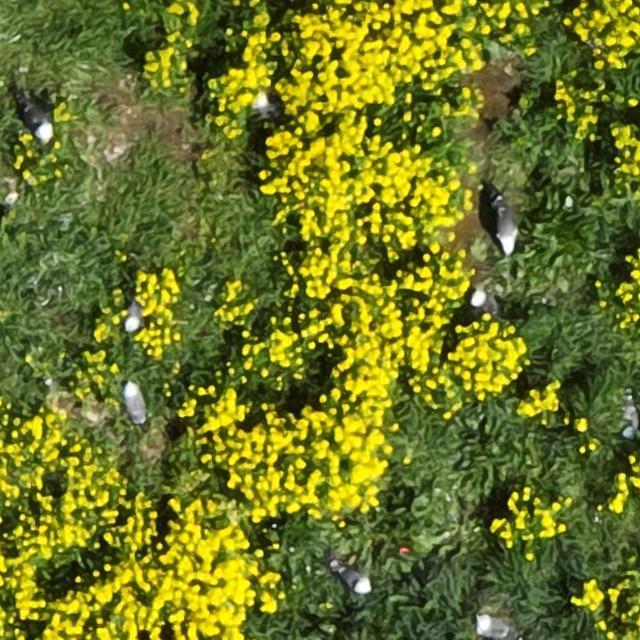umineko: (496, 206, 518, 254), (24, 103, 51, 141), (335, 567, 369, 594), (123, 384, 145, 424), (477, 616, 511, 636), (469, 291, 498, 314), (250, 93, 276, 117), (622, 399, 638, 436), (125, 300, 144, 331)
